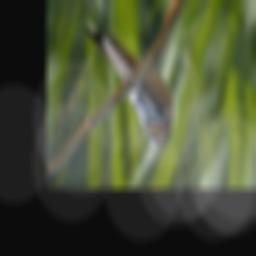Swallow: (81, 0, 174, 149)
